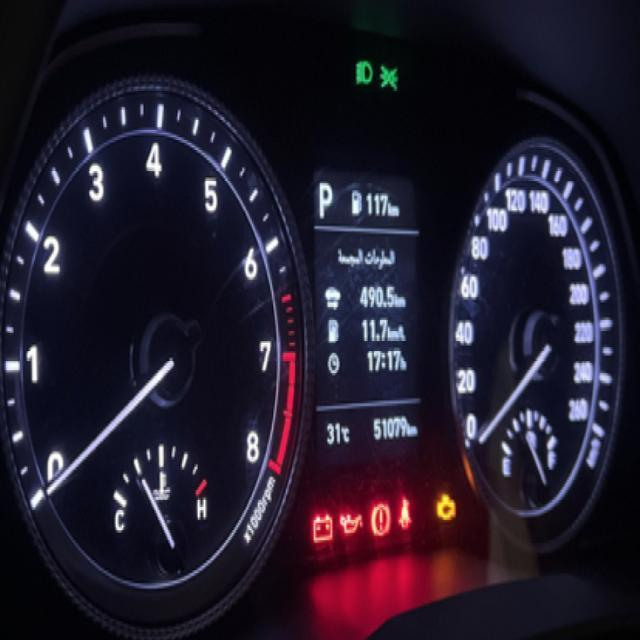Seat Belt: (396, 494, 414, 534)
